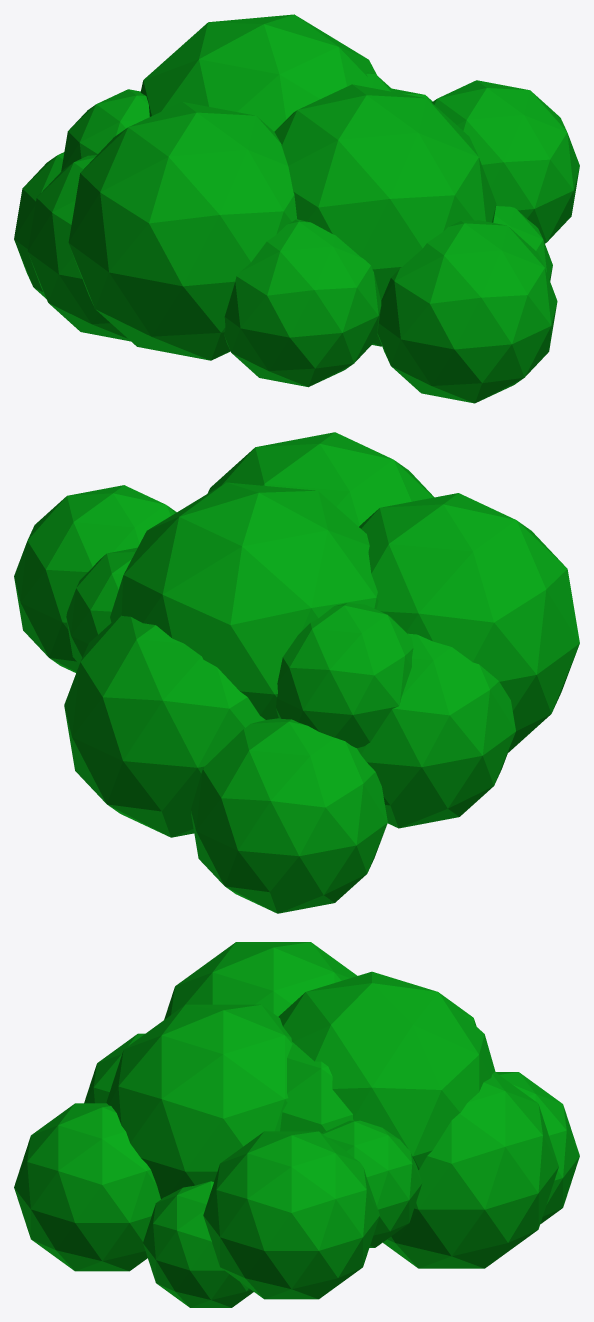
Rendered from Low_Poly_Tree.glb.
3 views of the same model, one above another, from view 1: azimuth 30°, elevation 25°; view 2: azimuth 150°, elevation 25°; view 3: azimuth 270°, elevation 25° (orthographic). The views are drawn at different scales.
Parts seen in each view (by area): view 1: Icosphere.004, Icosphere.001, Icosphere, Icosphere.009, Icosphere.002, Icosphere.006, Icosphere.010, Icosphere.011, Icosphere.003, Icosphere.008; view 2: Icosphere.002, Icosphere.004, Icosphere.003, Icosphere.012, Icosphere.010, Icosphere.011, Icosphere.006, Icosphere.001, Icosphere.007; view 3: Icosphere.001, Icosphere.002, Icosphere.006, Icosphere.012, Icosphere, Icosphere.004, Icosphere.008, Icosphere.007, Icosphere.005, Icosphere.003, Icosphere.009.
Part boxes in pixels (x1,y1,x2,y2): Icosphere.004: (68, 102, 296, 360); Icosphere.001: (274, 84, 496, 346); Icosphere: (377, 220, 557, 403); Icosphere.009: (224, 219, 381, 387); Icosphere.002: (140, 14, 376, 131); Icosphere.006: (432, 80, 579, 243); Icosphere.010: (27, 155, 130, 341); Icosphere.011: (61, 89, 149, 171); Icosphere.003: (14, 152, 64, 298); Icosphere.008: (493, 205, 552, 281); Icosphere.002: (110, 482, 378, 719); Icosphere.004: (359, 493, 579, 752); Icosphere.003: (191, 718, 387, 913); Icosphere.012: (64, 615, 265, 837); Icosphere.010: (357, 633, 515, 828); Icosphere.011: (276, 603, 413, 748); Icosphere.006: (14, 485, 176, 672); Icosphere.001: (207, 432, 434, 526); Icosphere.007: (66, 547, 137, 663); Icosphere.001: (106, 1004, 292, 1198); Icosphere.002: (278, 971, 495, 1169); Icosphere.006: (203, 1131, 379, 1299); Icosphere.012: (383, 1072, 558, 1268); Icosphere: (14, 1103, 160, 1271); Icosphere.004: (164, 942, 357, 1019); Icosphere.008: (143, 1181, 253, 1307); Icosphere.007: (321, 1120, 422, 1247); Icosphere.005: (280, 1041, 353, 1132); Icosphere.003: (495, 1072, 579, 1223); Icosphere.009: (84, 1033, 144, 1103).
Size of what is drawn, in the model's own units: 5.9 by 3.68 by 6.41.
